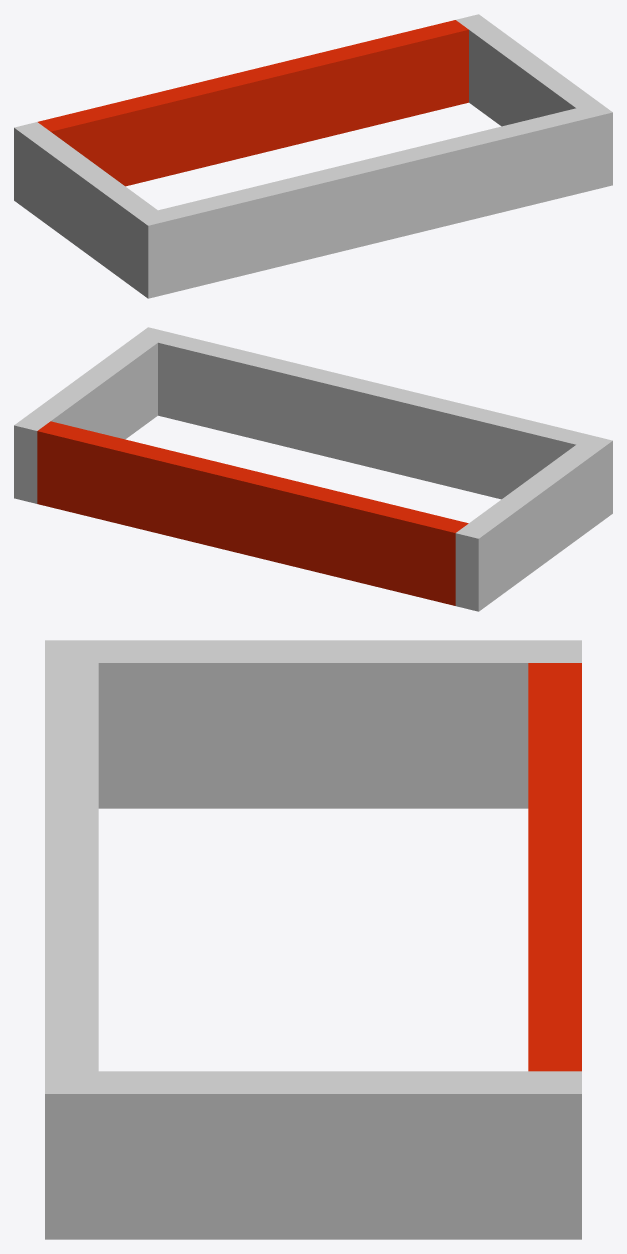
The model's file is wall_test.fbx.
3 renders of one model, top to bottom at view 1: azimuth 30°, elevation 25°; view 2: azimuth 150°, elevation 25°; view 3: azimuth 270°, elevation 25°, orthographic. The views are drawn at different scales.
Parts seen in each view (by area): view 1: Cube; view 2: Cube; view 3: Cube.
Boxes of the visible parts, x1,y1,x2,y2 form: Cube: (14,14,612,298); Cube: (14,327,612,611); Cube: (45,640,581,1239).
Size of the model in its own units: 4000 by 600 by 2000.
